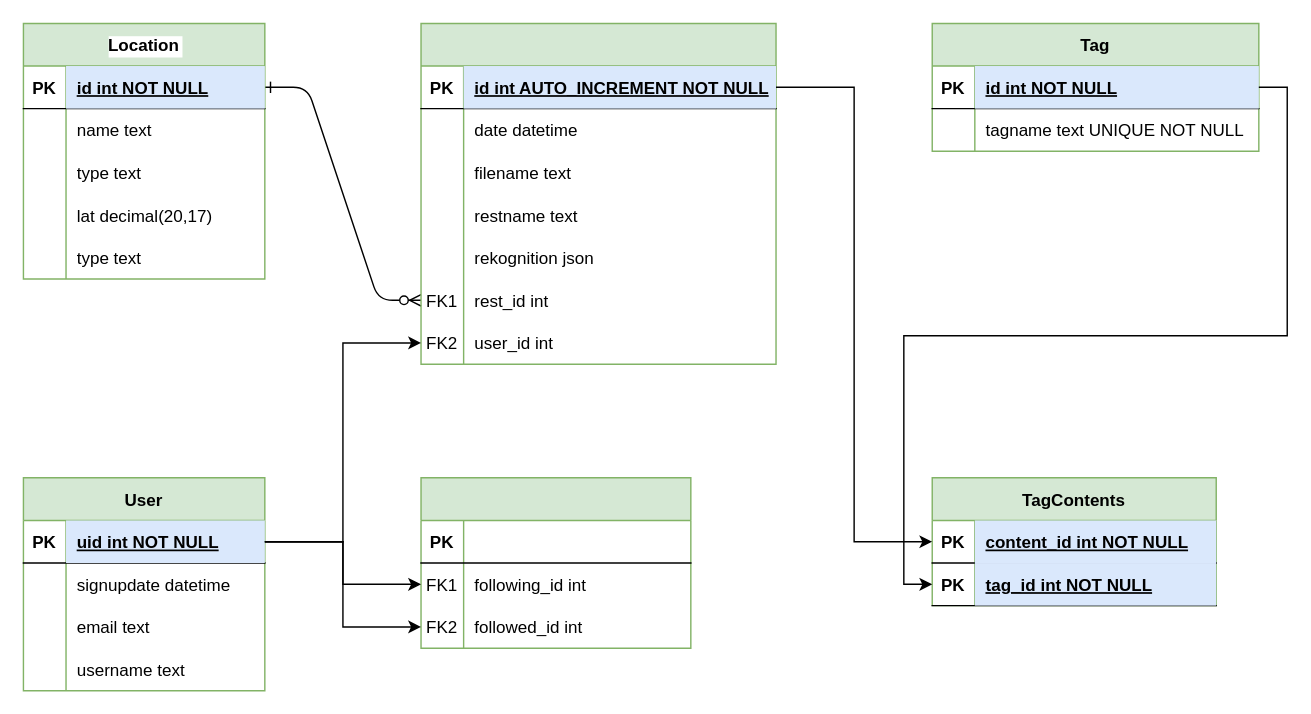
This 1311x714 diagram has some shape labels left out. The box of each missing label's shape, as (x1, y1, x2, y2) in pixels:
Contents: (420, 22, 776, 364)
Relation: (420, 476, 691, 648)
